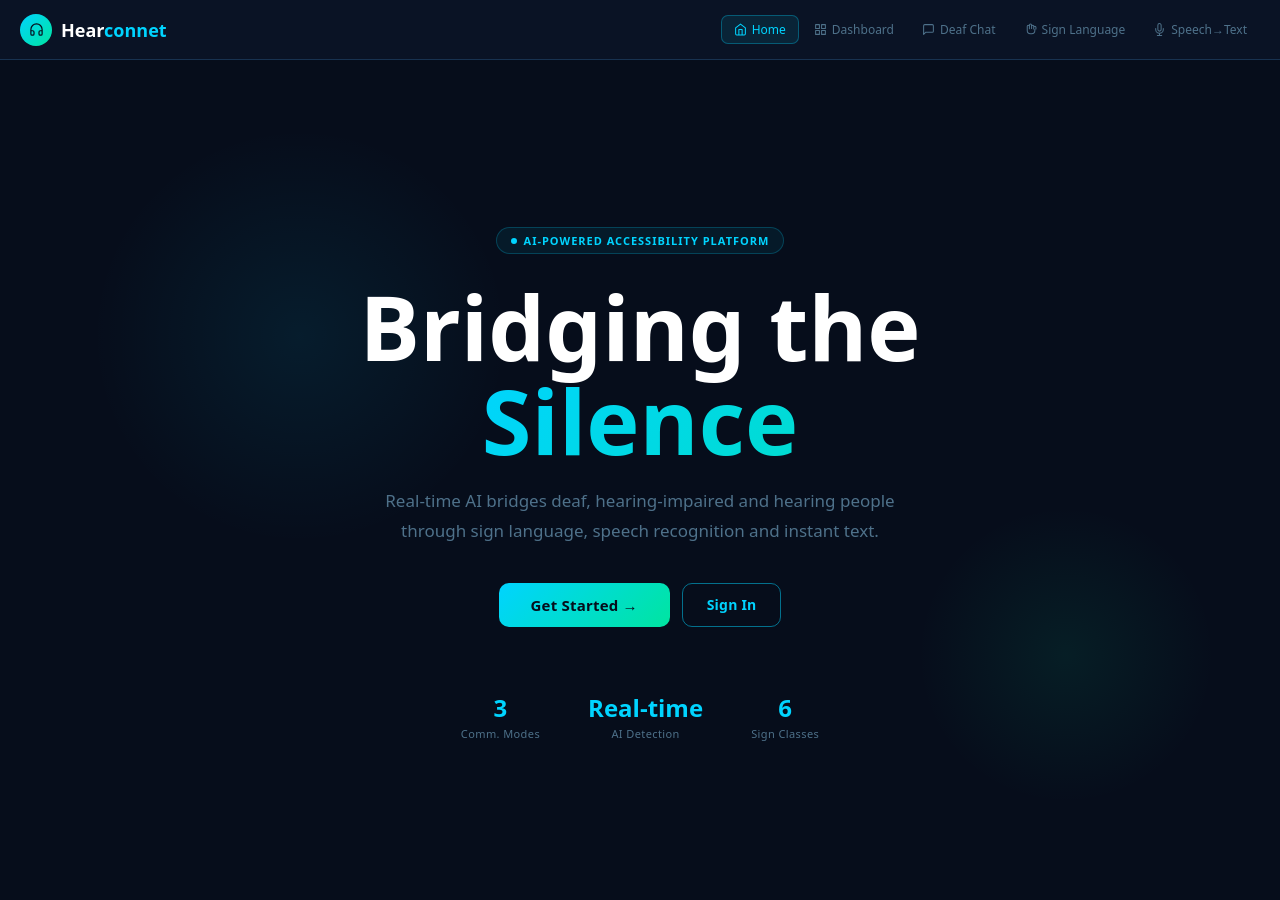
it: Auth guard › unauthenticated user sees login page when accessing dashboard
What coordinates should you click on to do the following:
click the button "Dashboard"
I would click on:
 (854, 30)
Its box is 801,15 -> 907,44.
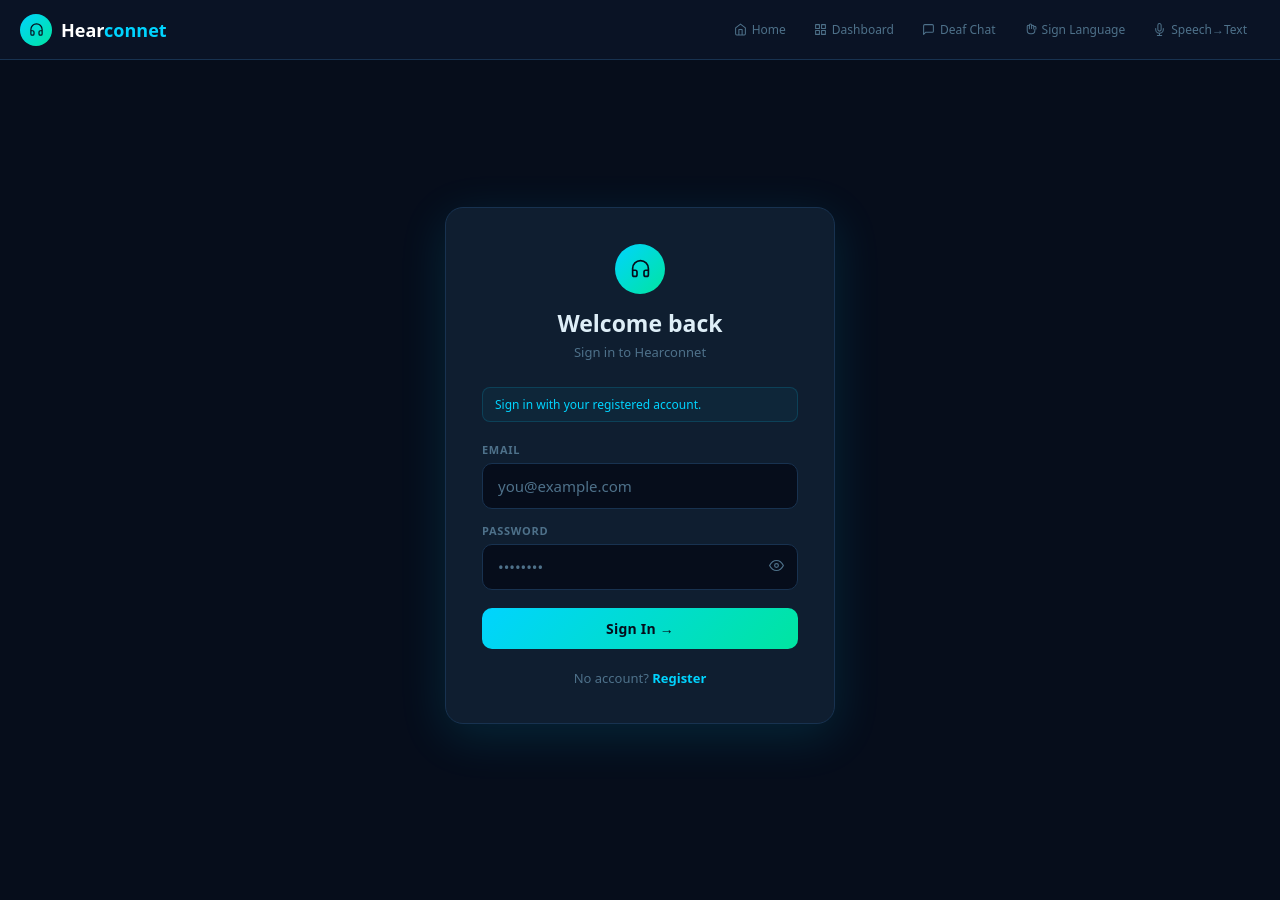
Check: the heading "Welcome back" is shown, box 557,306 -> 722,338
